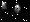person: (13, 3, 22, 16), (4, 4, 11, 13)
